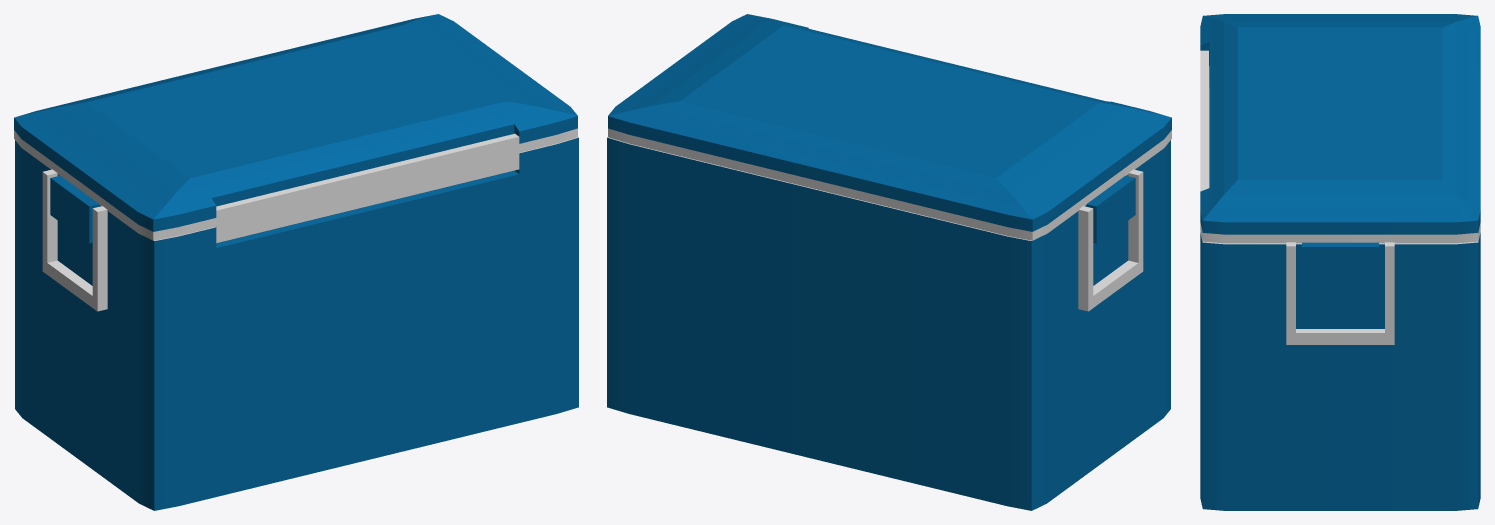
3 renders of one model, left to right at view 1: azimuth 30°, elevation 25°; view 2: azimuth 150°, elevation 25°; view 3: azimuth 270°, elevation 25°, orthographic.
Parts seen in each view (by area): view 1: pCube5, pCube9, pCube8, pCube13, pCube15; view 2: pCube5, pCube9, pCube13, pCube15; view 3: pCube5, pCube9, pCube12, pCube14, pCube8.
Boxes of the visible parts, left/top/right/bottom form: pCube5: left=15, top=137, right=578, bottom=510; pCube9: left=14, top=14, right=577, bottom=240; pCube8: left=216, top=133, right=519, bottom=243; pCube13: left=42, top=169, right=107, bottom=311; pCube15: left=50, top=175, right=99, bottom=243; pCube5: left=607, top=137, right=1170, bottom=510; pCube9: left=608, top=14, right=1171, bottom=240; pCube13: left=1078, top=169, right=1143, bottom=311; pCube15: left=1086, top=175, right=1135, bottom=243; pCube5: left=1200, top=66, right=1480, bottom=510; pCube9: left=1200, top=14, right=1480, bottom=243; pCube12: left=1286, top=242, right=1394, bottom=344; pCube14: left=1302, top=242, right=1378, bottom=283; pCube8: left=1200, top=50, right=1208, bottom=191.
Bounding box in the file's own units: 44.32 × 28.76 × 24.13.
